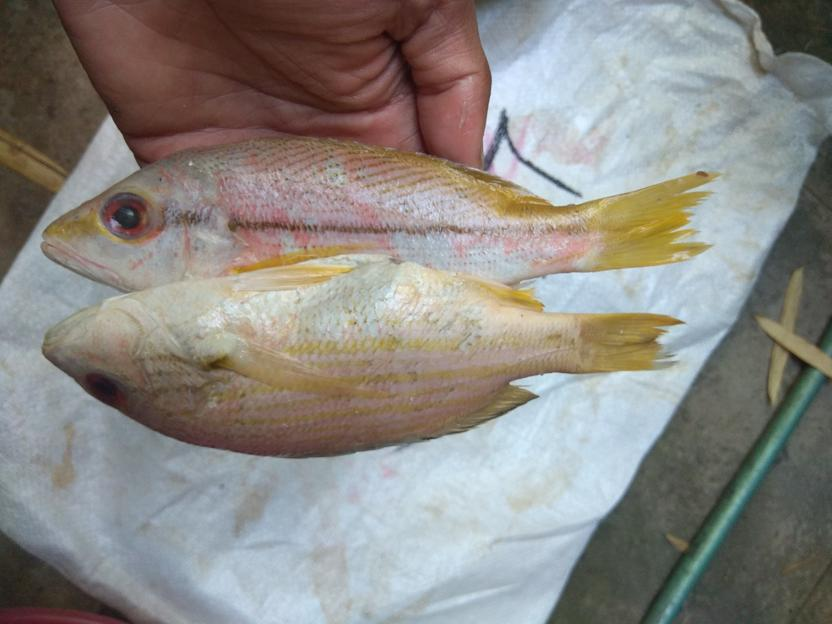Fish head: (39, 163, 211, 291), (41, 291, 183, 429)
Fish tail: (578, 170, 726, 273), (582, 312, 689, 374)
